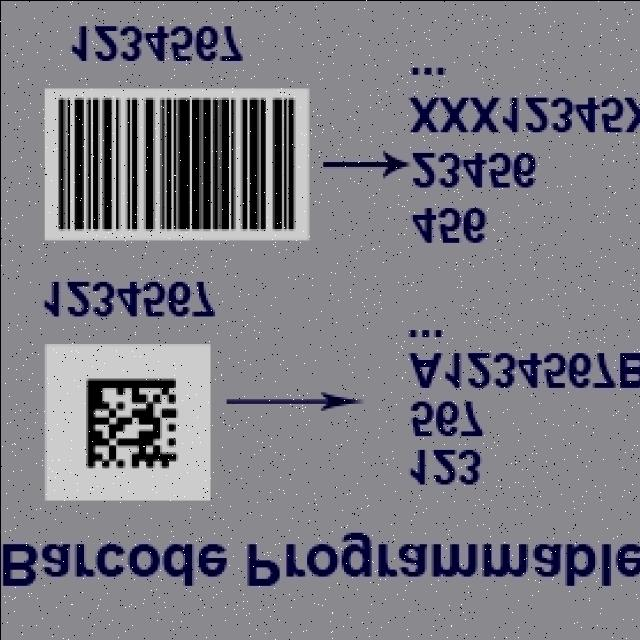datamatrix: (81, 375, 184, 472)
